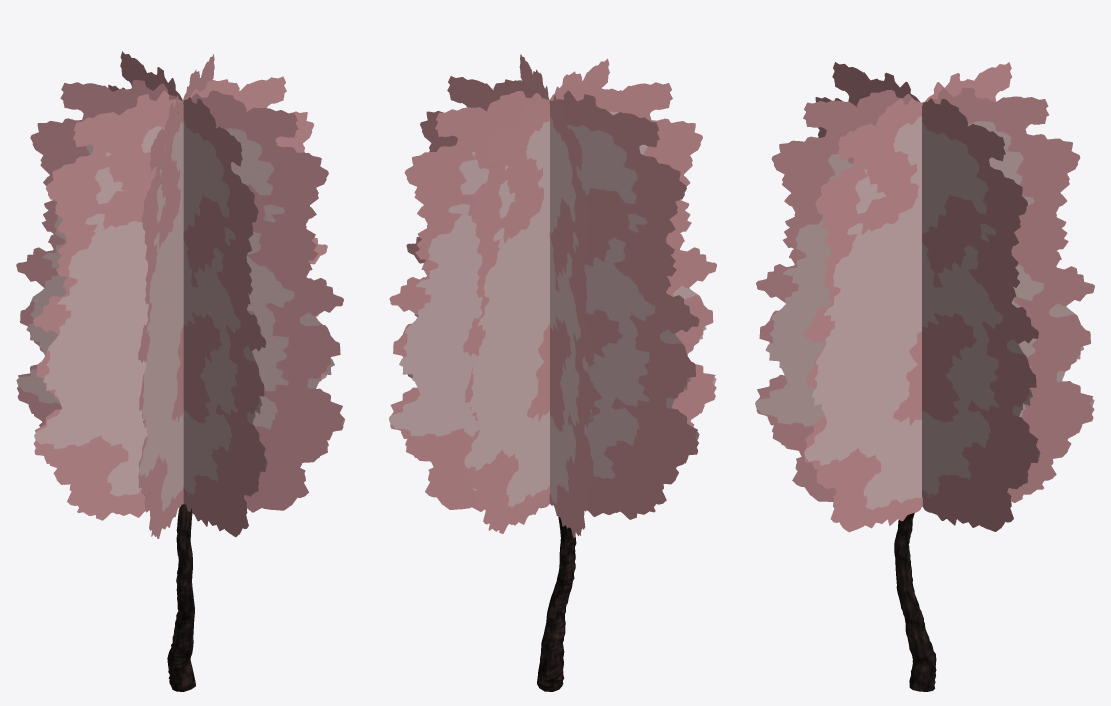
Rendered from CherryTreeFailure.fbx.
3 renders of one model, left to right at view 1: azimuth 30°, elevation 25°; view 2: azimuth 150°, elevation 25°; view 3: azimuth 270°, elevation 25°, orthographic.
Visible parts, largest first — view 1: pCube9, pCube6, pCube5, pCube10, pCube7, pCube8, pCube11, LowPolyCherryTree:CherryTree1:trunk, pCube1; view 2: pCube7, pCube1, pCube10, pCube11, pCube9, pCube5, LowPolyCherryTree:CherryTree1:trunk, pCube6, pCube8; view 3: pCube11, pCube8, pCube5, pCube1, pCube9, LowPolyCherryTree:CherryTree1:trunk, pCube10.
Part boxes in pixels (x1,y1,x2,y2): pCube9: (16, 79, 344, 503); pCube6: (34, 79, 318, 515); pCube5: (108, 51, 266, 524); pCube10: (139, 69, 199, 536); pCube7: (33, 76, 327, 520); pCube8: (16, 89, 345, 512); pCube11: (138, 54, 214, 538); LowPolyCherryTree:CherryTree1:trunk: (167, 504, 195, 691); pCube1: (146, 75, 267, 537); pCube7: (406, 76, 699, 519); pCube1: (464, 71, 581, 531); pCube10: (389, 91, 716, 511); pCube11: (389, 80, 716, 467); pCube9: (519, 54, 594, 537); pCube5: (463, 58, 621, 533); LowPolyCherryTree:CherryTree1:trunk: (537, 504, 576, 691); pCube6: (409, 79, 699, 514); pCube8: (527, 69, 594, 535); pCube11: (815, 62, 1039, 519); pCube8: (804, 99, 922, 532); pCube5: (756, 88, 1094, 505); pCube1: (755, 90, 1094, 501); pCube9: (804, 62, 1029, 492); LowPolyCherryTree:CherryTree1:trunk: (894, 513, 936, 691); pCube10: (854, 81, 1040, 531).
Bounding box in the file's own units: 320 × 608 × 320.
